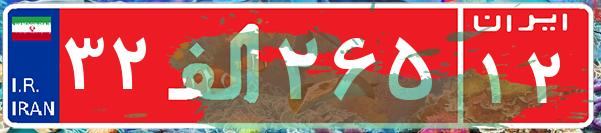1: (475, 38, 525, 113)
2: (273, 28, 330, 110), (110, 28, 158, 105), (525, 38, 570, 115)
3: (57, 26, 110, 107)
5: (385, 28, 445, 110)
6: (330, 28, 385, 110)
الف: (158, 15, 273, 115)
